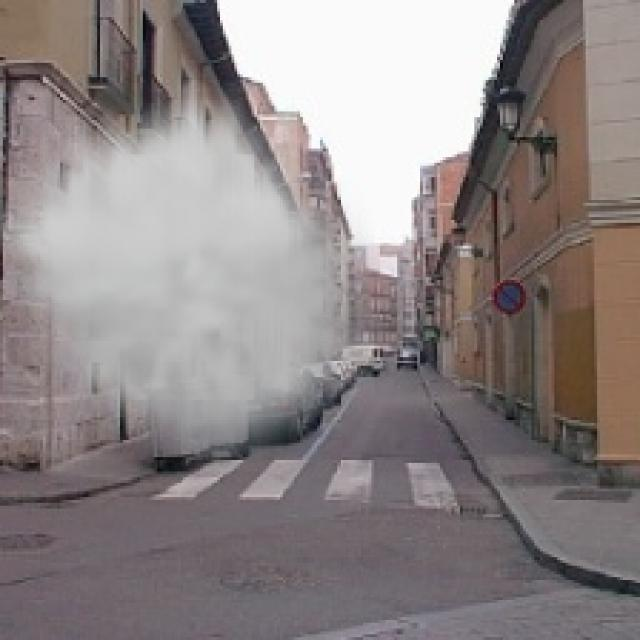Smoke: (0, 79, 375, 472)
